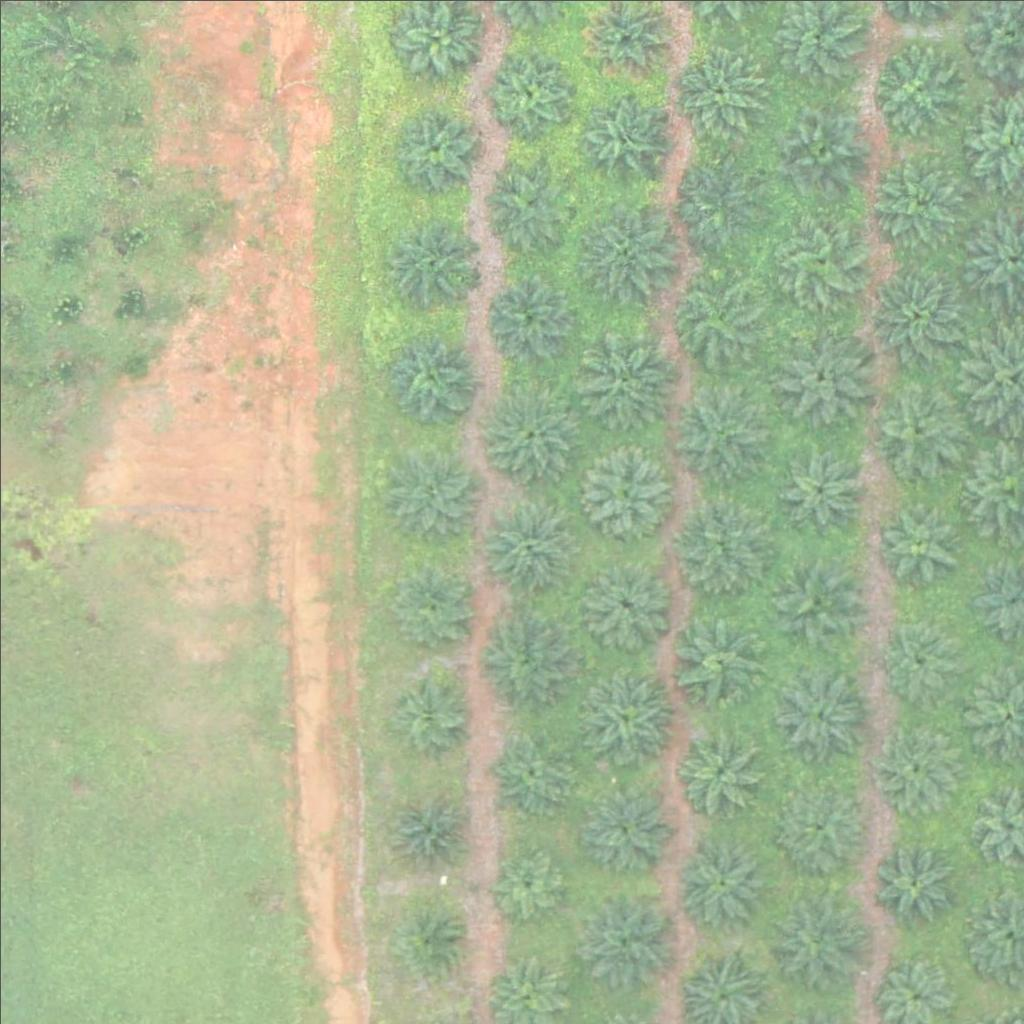Kelapa_Sawit: (579, 887, 679, 988), (865, 152, 965, 253), (765, 553, 865, 654), (670, 500, 770, 601), (665, 379, 765, 480), (574, 440, 674, 541), (575, 329, 675, 430), (574, 196, 674, 297), (472, 495, 572, 596), (479, 384, 579, 485), (380, 325, 480, 426), (476, 607, 576, 707), (576, 668, 676, 768), (670, 611, 770, 711), (765, 891, 865, 991), (770, 664, 870, 764), (869, 380, 969, 480), (771, 332, 871, 432), (662, 271, 762, 371), (663, 151, 763, 251), (580, 556, 668, 645), (386, 664, 474, 752), (483, 727, 571, 815), (582, 783, 670, 871), (775, 443, 863, 531), (776, 221, 864, 309), (773, 102, 861, 190), (486, 273, 574, 361), (384, 217, 472, 305), (388, 103, 476, 191), (673, 46, 761, 134), (383, 783, 470, 871), (678, 835, 765, 923), (675, 724, 762, 812), (775, 775, 862, 863), (870, 272, 957, 360), (483, 161, 570, 249), (387, 563, 474, 651), (387, 448, 474, 536), (578, 89, 665, 177), (486, 50, 573, 138), (874, 43, 961, 131), (873, 841, 948, 917), (875, 730, 950, 806), (878, 507, 953, 583), (487, 842, 562, 917), (883, 616, 958, 691), (402, 910, 465, 973)
